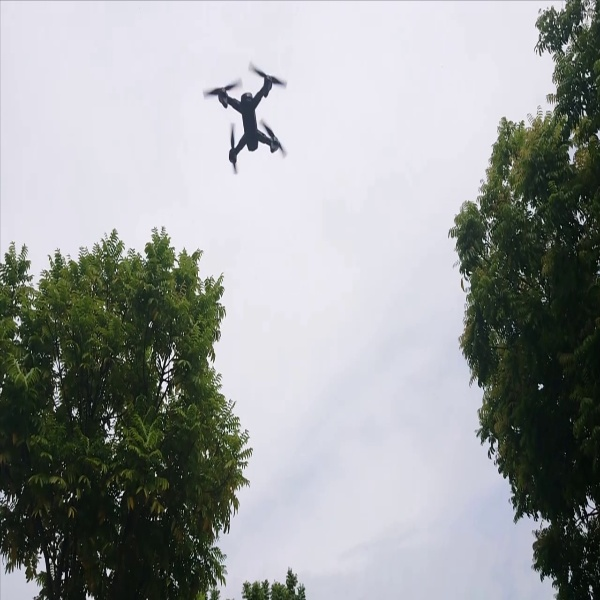drone: (192, 61, 301, 185)
